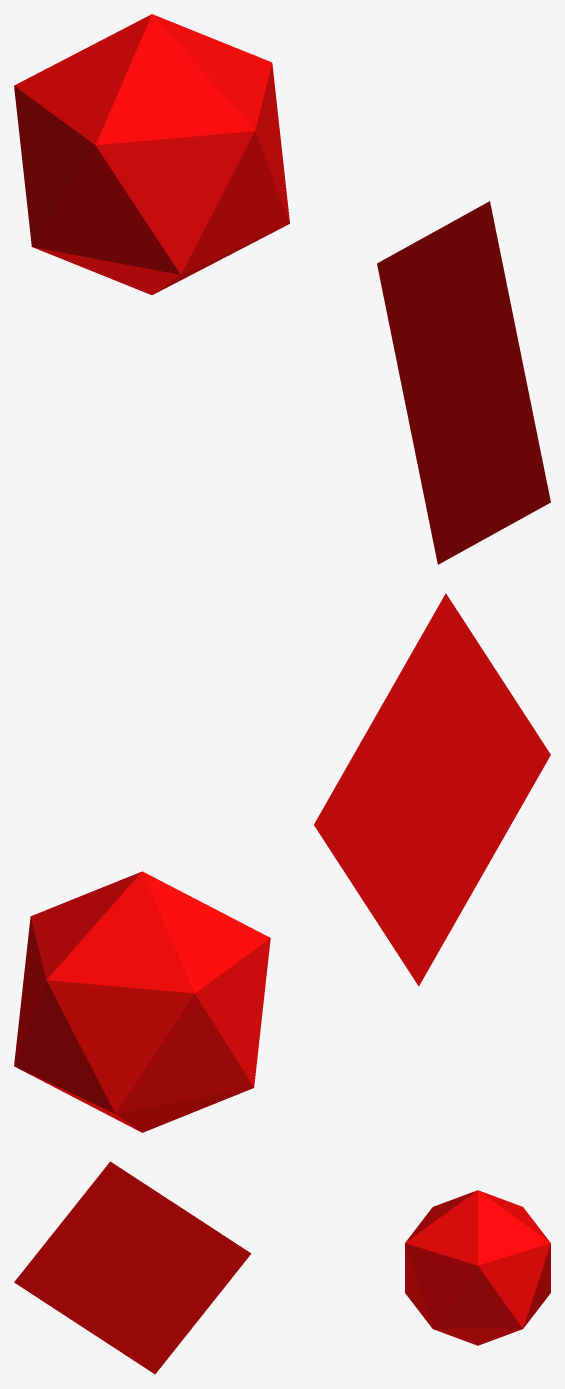
Rendered from bvhsplitTest.glb.
3 renders of one model, top to bottom at view 1: azimuth 30°, elevation 25°; view 2: azimuth 150°, elevation 25°; view 3: azimuth 270°, elevation 25°, orthographic. The views are drawn at different scales.
Visible parts, largest first — view 1: Icosphere, Plane; view 2: Icosphere, Plane; view 3: Plane, Icosphere.
Boxes of the visible parts, left/top/right/bottom form: Icosphere: left=14, top=14, right=289, bottom=294; Plane: left=377, top=201, right=550, bottom=564; Icosphere: left=14, top=871, right=270, bottom=1132; Plane: left=314, top=593, right=550, bottom=986; Plane: left=14, top=1161, right=251, bottom=1374; Icosphere: left=405, top=1190, right=550, bottom=1345.
Size of the model in its own units: 1.79 by 2.78 by 6.25.
